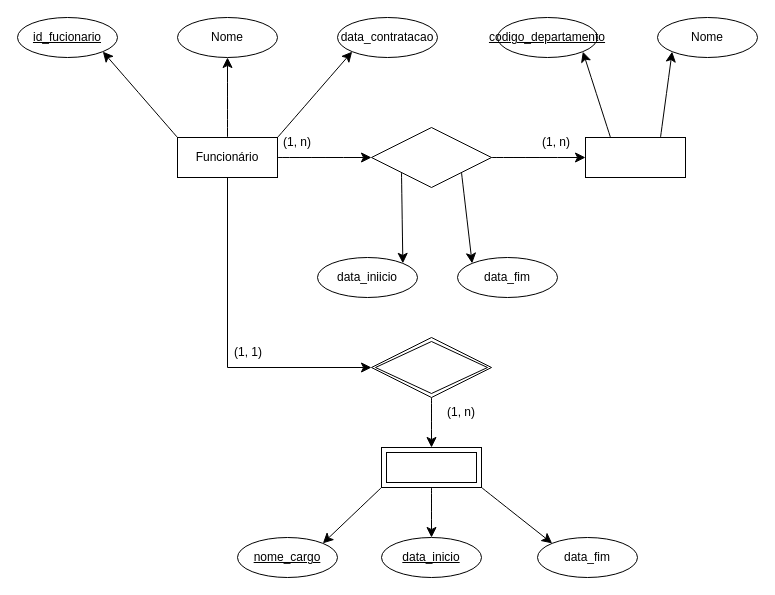
This 775x595 diagram has some shape labels left out. The shapes that lost their labels are listed below. From the top down, each one's centre as x and y in pixels, then its label:
pixel 431 157: trabalha em
pixel 635 157: Departamento
pixel 431 367: ocupa
pixel 431 467: Cargo ocupado
